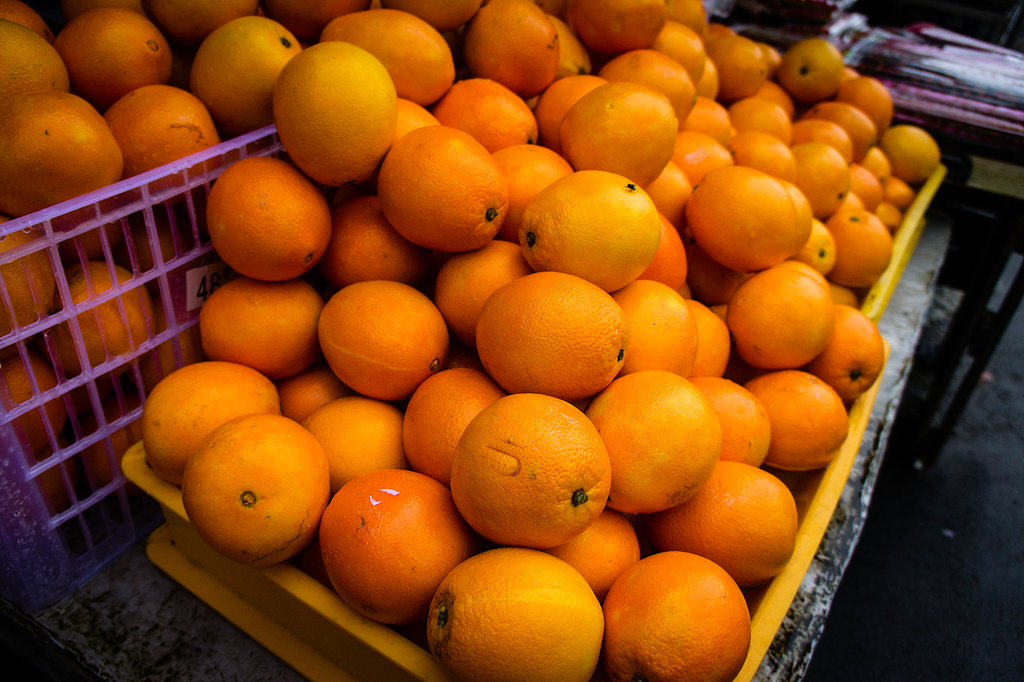Ripe: (0, 7, 946, 681), (604, 553, 756, 679), (742, 371, 850, 466)
